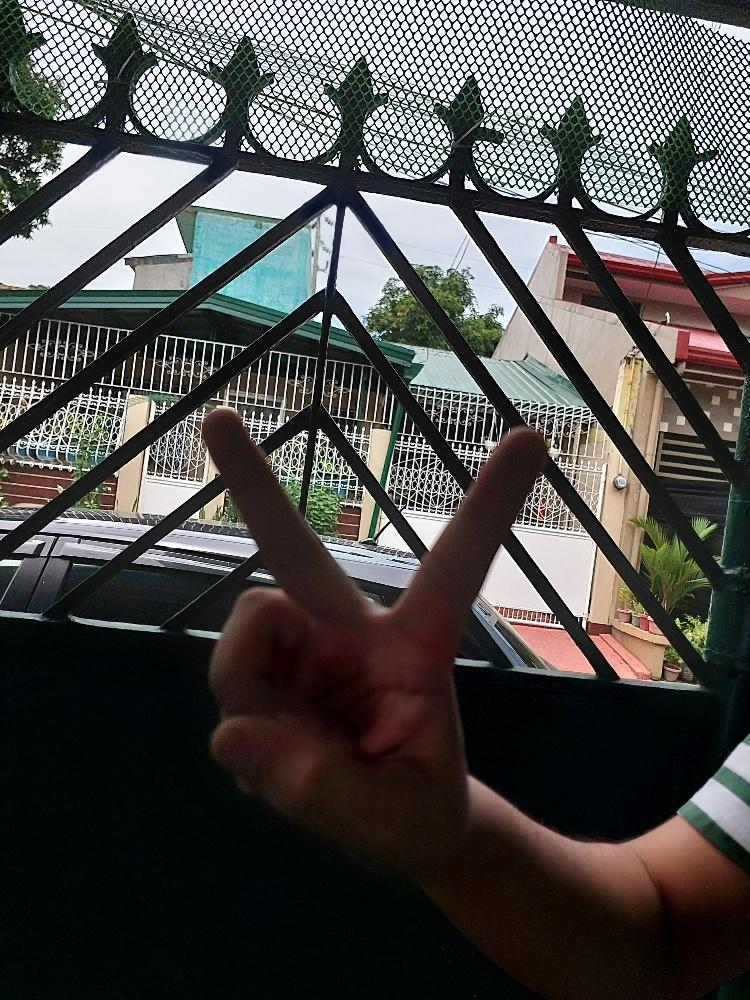v: (196, 401, 549, 868)
